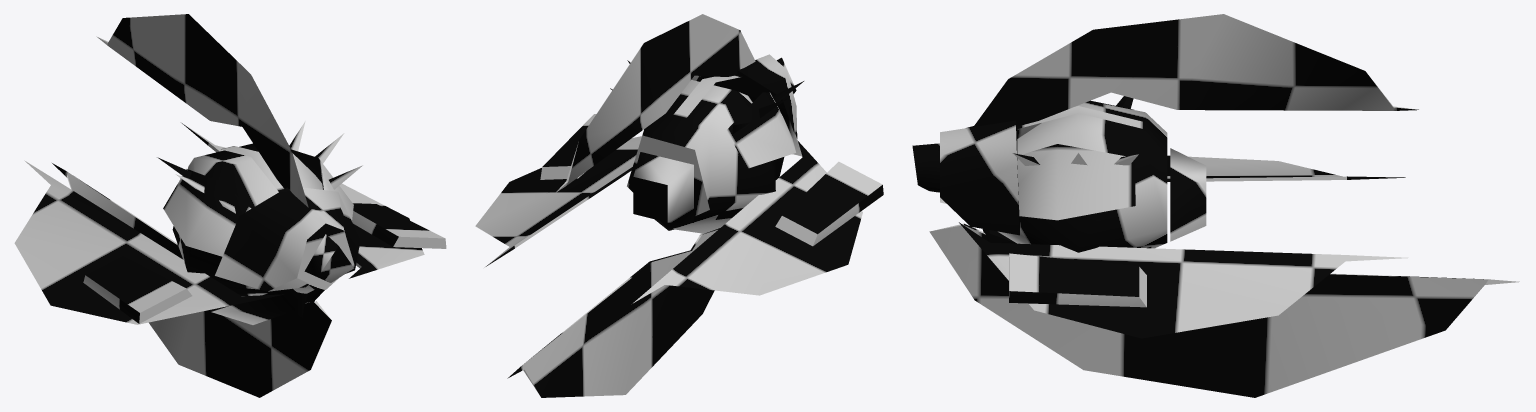
The model's file is drone_iris_6.obj.
3 renders of one model, left to right at view 1: azimuth 30°, elevation 25°; view 2: azimuth 150°, elevation 25°; view 3: azimuth 270°, elevation 25°, orthographic. The views are drawn at different scales.
Parts seen in each view (by area): view 1: main; view 2: main; view 3: main.
Boxes of the visible parts, bbox=[...] form: main: bbox=[14, 14, 446, 397]; main: bbox=[475, 14, 883, 397]; main: bbox=[912, 14, 1519, 397].
Size of the model in its own units: 28.23 by 27.28 by 39.45.
Materials: 1 (1 with a texture image).
